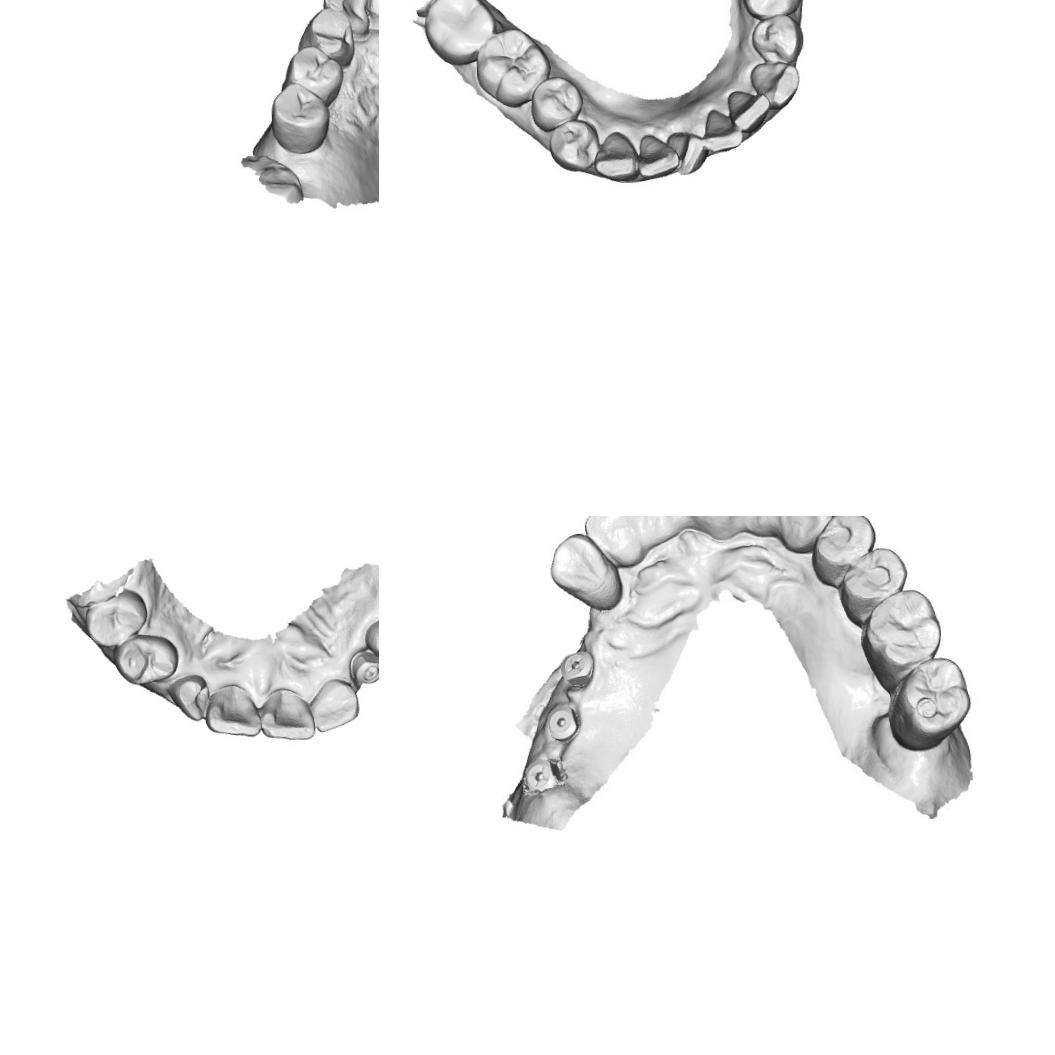canine: (547, 530, 625, 615), (295, 7, 357, 67), (745, 60, 800, 111), (774, 516, 836, 555), (594, 132, 640, 182)
implant: (544, 702, 581, 742), (345, 649, 379, 685)
implant_plus: (521, 755, 562, 795), (556, 648, 598, 687)
incisor: (201, 680, 262, 742), (256, 684, 317, 744), (308, 675, 361, 734), (582, 516, 643, 567), (698, 108, 745, 154), (636, 134, 683, 179), (668, 130, 710, 178), (320, 0, 373, 38), (170, 674, 208, 724), (730, 89, 771, 134), (616, 516, 682, 543), (733, 516, 787, 532)
molar: (886, 655, 974, 753), (858, 586, 944, 679), (472, 24, 554, 109), (422, 0, 500, 69)
premolar: (835, 545, 910, 626), (808, 516, 880, 587), (268, 80, 333, 156), (278, 44, 346, 108), (84, 588, 148, 652), (111, 630, 178, 687), (530, 72, 589, 130), (746, 13, 803, 70), (547, 116, 602, 173), (740, 0, 798, 21), (365, 617, 379, 670)
